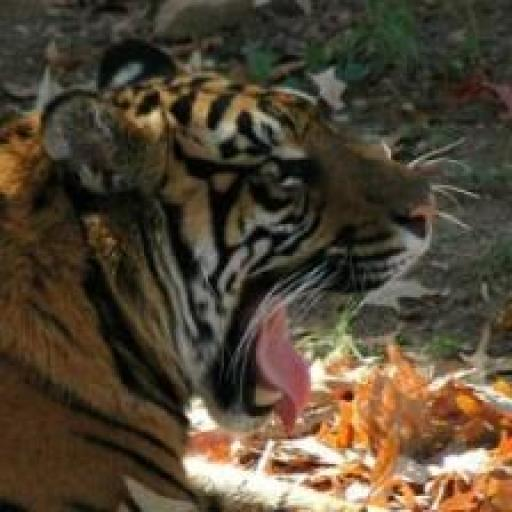Tiger: (0, 36, 477, 512)
